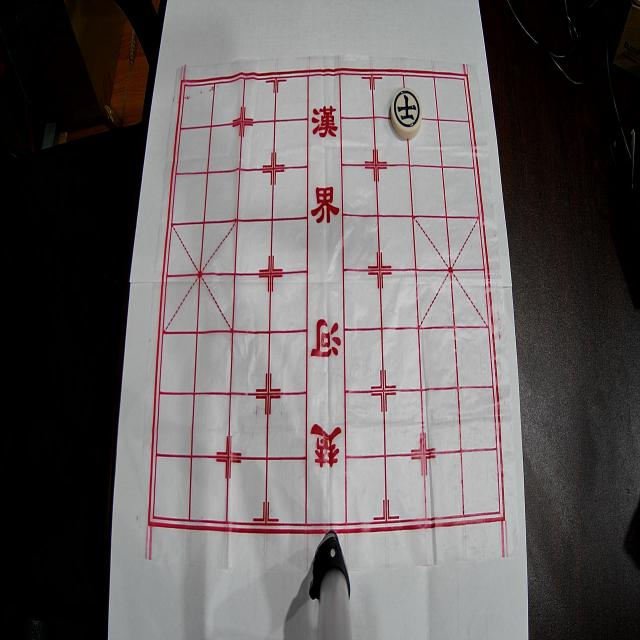black-guard: (391, 88, 422, 139)
